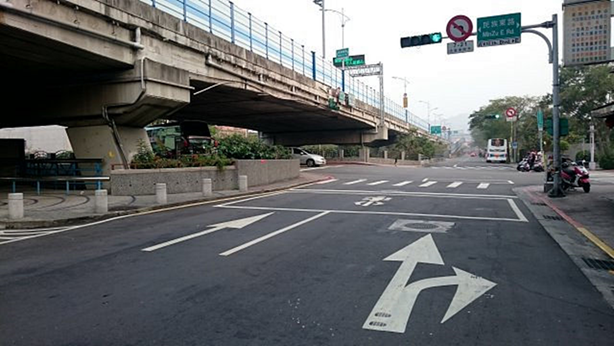No_left_turn: (446, 15, 473, 41)
Traffic_light_green: (411, 33, 442, 45)
